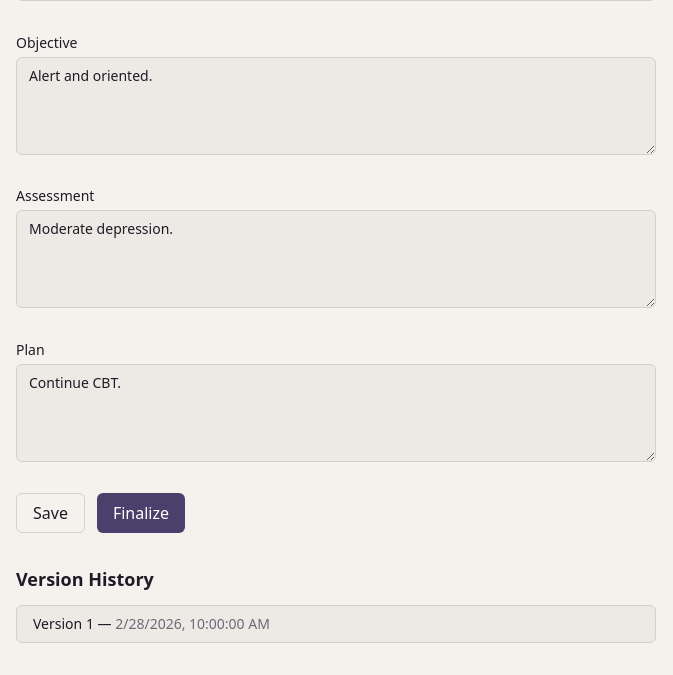
Test: Session note edit page › shows error when finalize returns success=false
The image size is (673, 675).
(page scrolled)
Click the button "Finalize" at (141, 513), box x1=97 y1=493 x2=185 y2=533
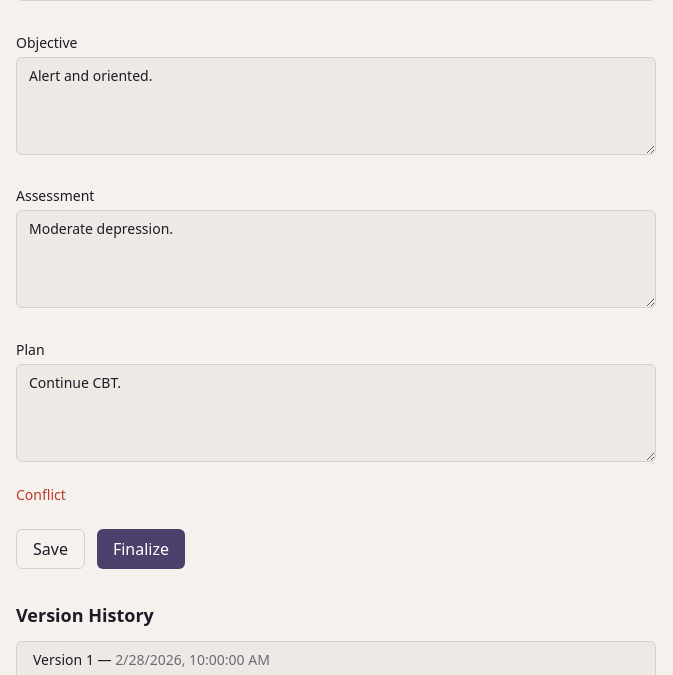
Result: the text "Conflict" is shown at x1=16 y1=485 x2=66 y2=504
